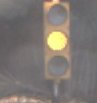Yellow: (33, 2, 79, 89)
